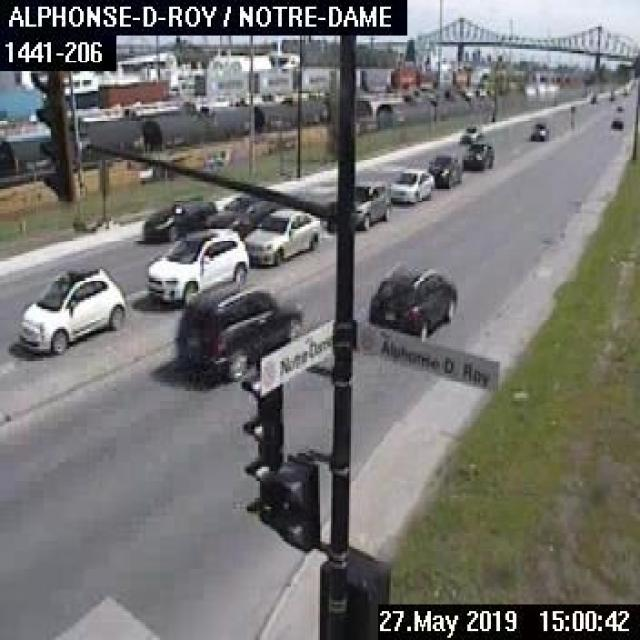vehicle: (170, 284, 306, 380), (15, 258, 127, 356), (141, 222, 251, 304), (366, 262, 454, 336), (238, 202, 323, 266), (136, 191, 218, 241), (326, 178, 390, 232), (206, 192, 273, 234), (388, 165, 433, 203), (428, 152, 461, 188), (459, 139, 494, 172), (458, 122, 482, 144), (529, 120, 548, 138), (609, 115, 622, 129), (588, 94, 596, 105)
